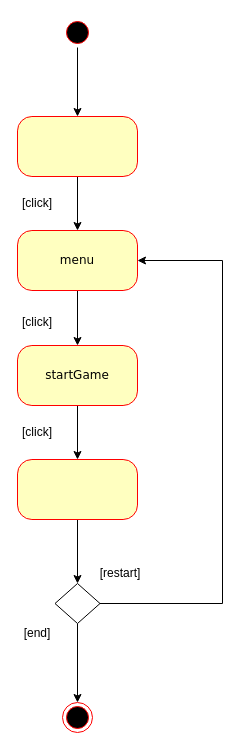
The diagram is 248 pixels wide and 750 high, and some of its shapes have lost their labels. The shapes that lost their labels are listed below. From the top down, each one's centre as x and y in pixels, then its label:
[77,146]: init
[77,489]: endGame
